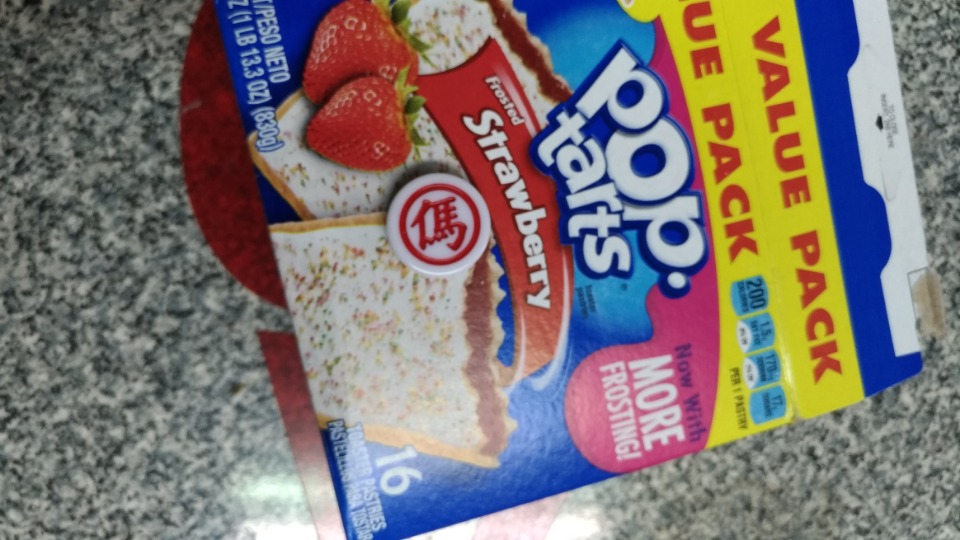r-knight: (383, 166, 506, 282)
